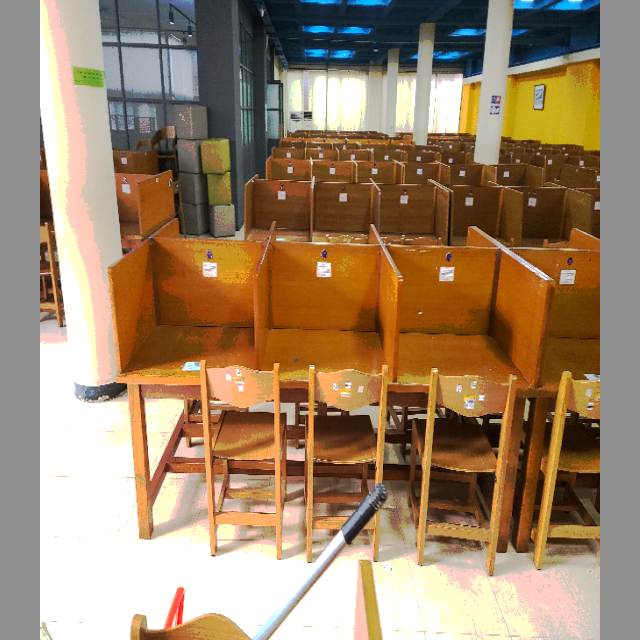empty: (112, 224, 257, 448), (404, 232, 545, 457), (264, 223, 399, 441)
